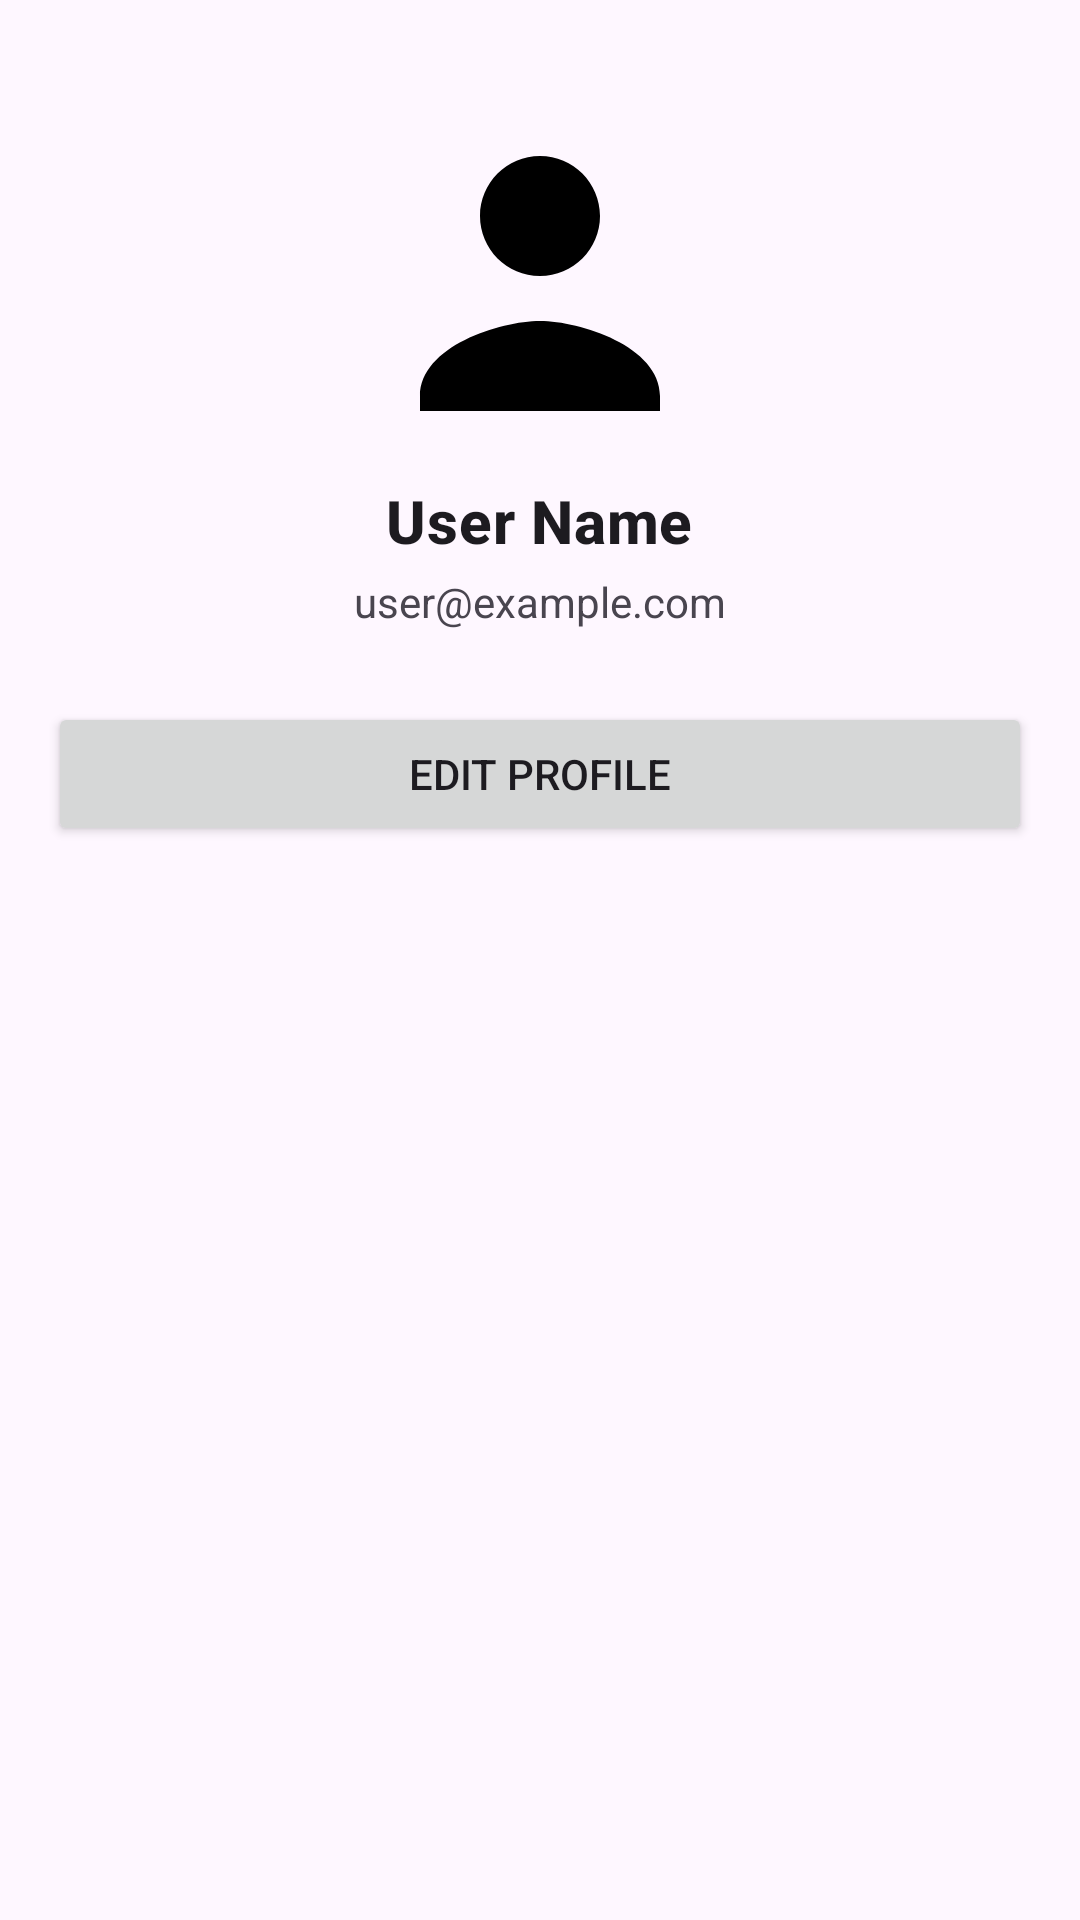

Where to tap for icons on this 1080px x 1920px app screen, as point (x, y):
profile: point (540, 283)
